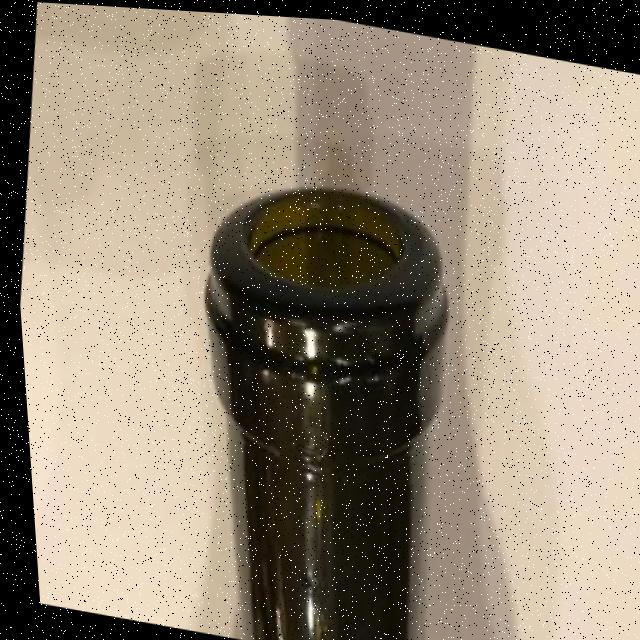glass: (149, 163, 485, 640)
